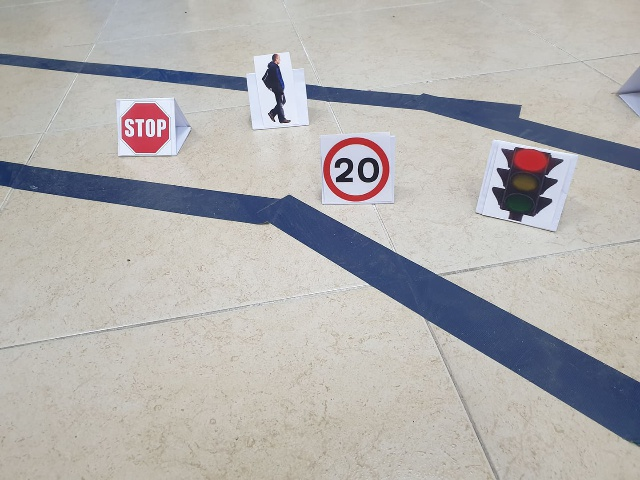Limit 20: (324, 134, 390, 201)
Person: (255, 53, 295, 125)
Red: (496, 141, 555, 228)
Stop: (118, 100, 170, 157)
